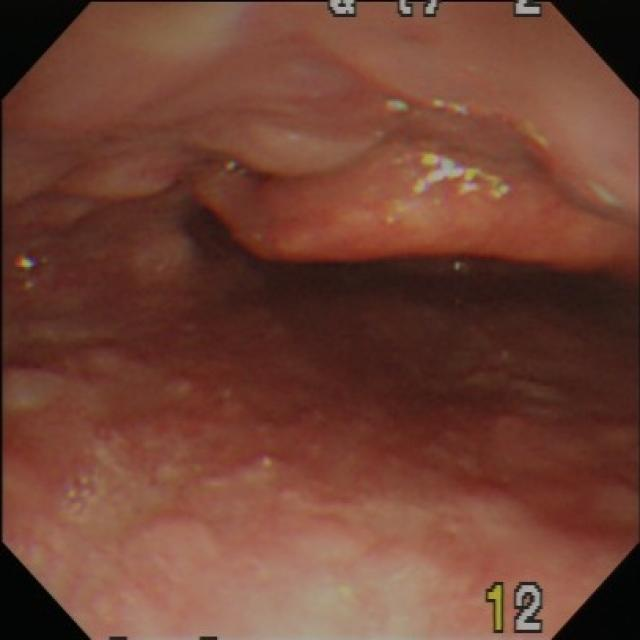A: (4, 342, 633, 539), (31, 114, 635, 271)
S: (484, 578, 547, 636), (325, 3, 545, 18)
T: (11, 237, 88, 313), (204, 157, 275, 193), (62, 472, 105, 521)
U: (407, 150, 514, 199), (386, 97, 470, 117), (589, 177, 624, 208)
